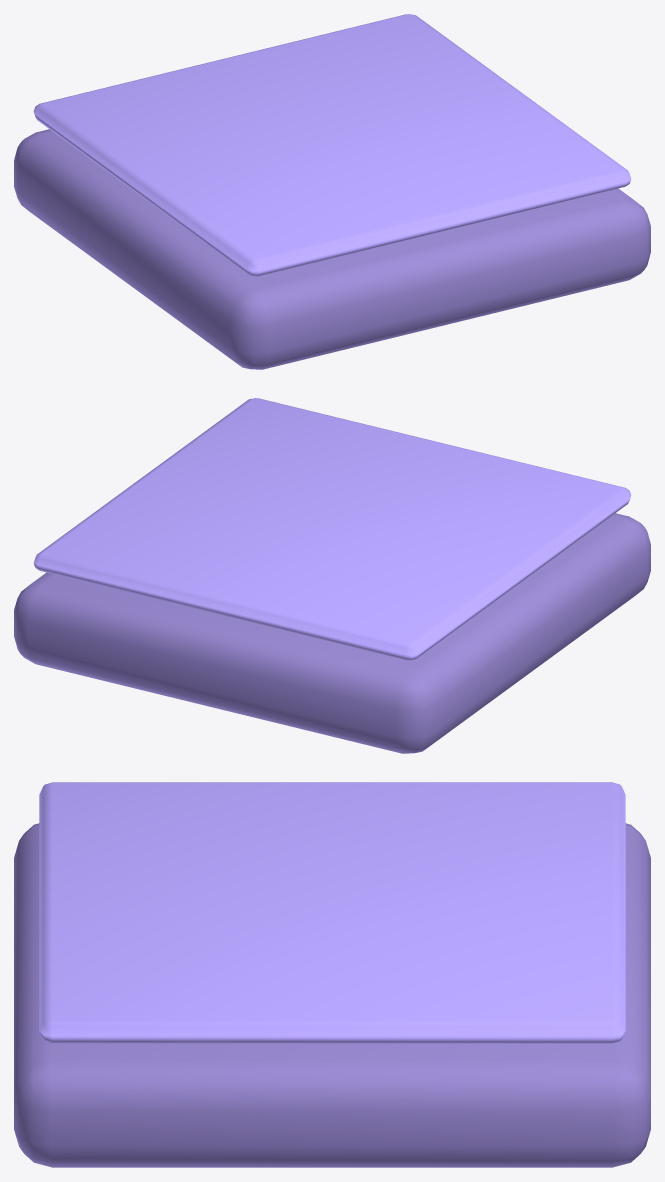
The model's file is env-tile.glb.
The picture shows the model from 3 angles, top to bottom: view 1: azimuth 30°, elevation 25°; view 2: azimuth 150°, elevation 25°; view 3: azimuth 270°, elevation 25°; orthographic projection. The views are drawn at different scales.
Parts seen in each view (by area): view 1: Env_Tile_Top, Env_Tile; view 2: Env_Tile_Top, Env_Tile; view 3: Env_Tile_Top, Env_Tile.
Boxes of the visible parts, box(x1,y1,x2,y2) form: Env_Tile_Top: box(33, 14, 631, 276); Env_Tile: box(14, 129, 650, 369); Env_Tile_Top: box(33, 398, 631, 660); Env_Tile: box(14, 513, 650, 753); Env_Tile_Top: box(39, 782, 625, 1043); Env_Tile: box(14, 823, 650, 1167).
Size of the model in its own units: 0.5 by 0.125 by 0.5.
